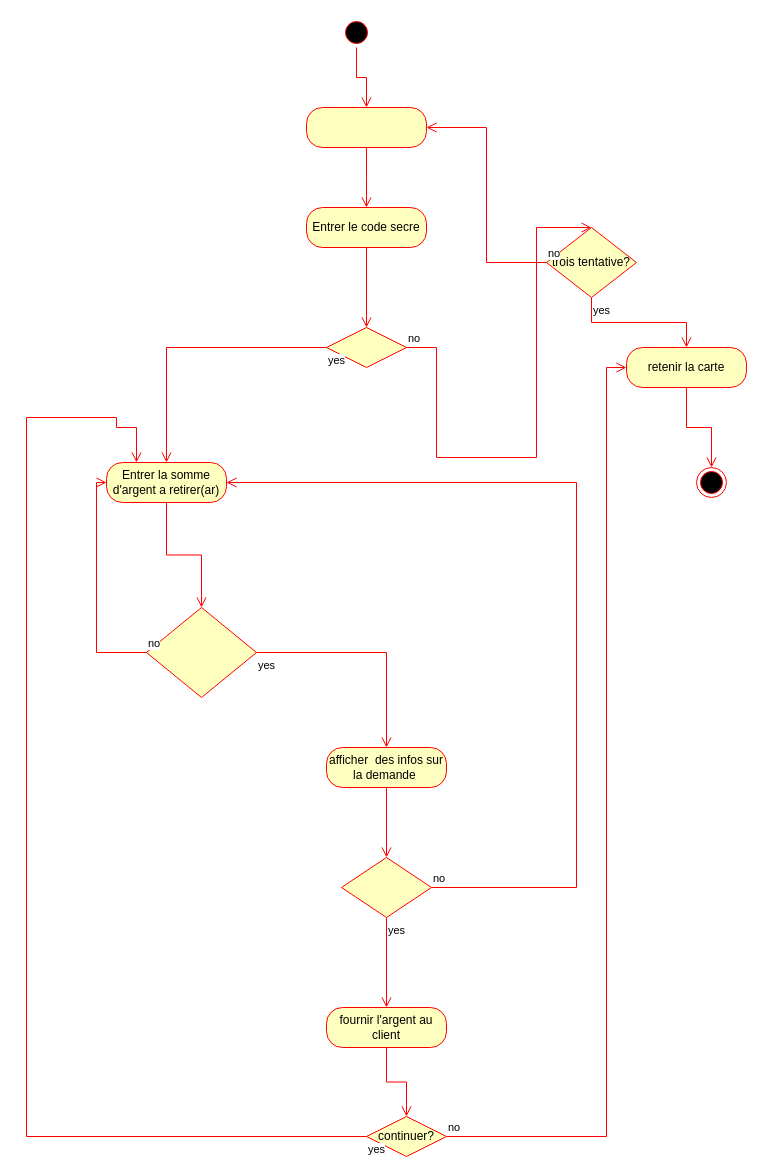
This 764x1174 diagram has some shape labels left out. The shapes that lost their labels are listed below. From the top down, each one's centre as x and y in pixels, then its label:
At (366,127): "inserer la carte".
At (366,347): "code juste".
At (201,652): "argent retirer <= argent compte".
At (386,887): "valider la demande".
